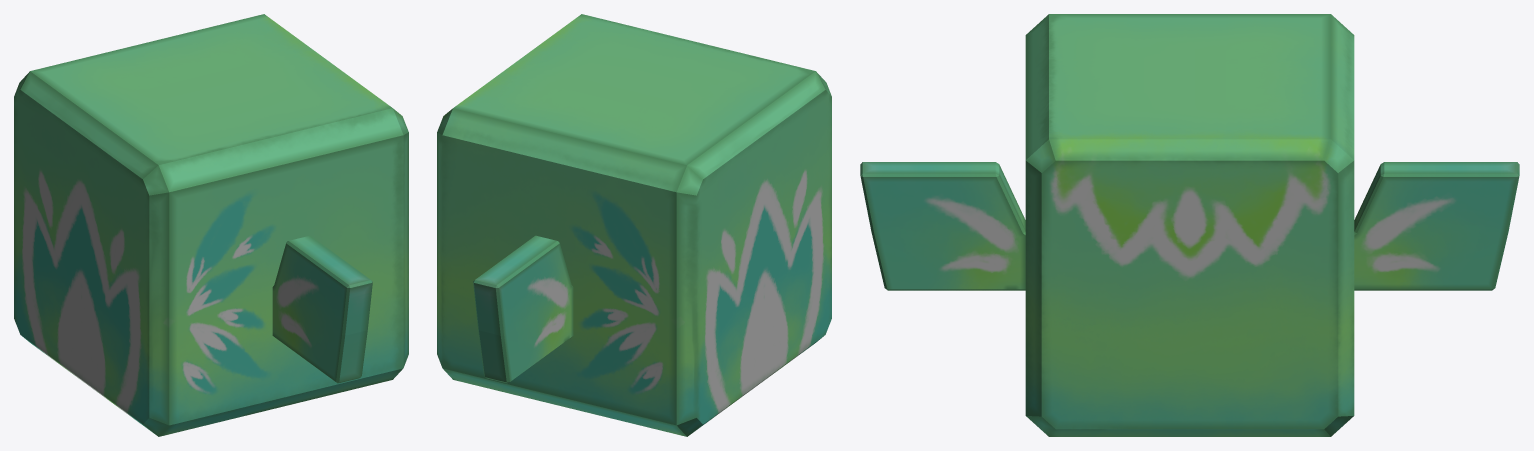
File: bird_totem_wing.fbx
The picture shows the model from 3 angles, left to right: view 1: azimuth 30°, elevation 25°; view 2: azimuth 150°, elevation 25°; view 3: azimuth 270°, elevation 25°; orthographic projection. The views are drawn at different scales.
Visible parts, largest first — view 1: Cube.005, Plane.frozen; view 2: Cube.005, Plane.frozen; view 3: Cube.005, Plane.frozen.
Part boxes in pixels (box(x1,y1,x2,y2)): Cube.005: box(14, 14, 408, 436); Plane.frozen: box(272, 235, 372, 383); Cube.005: box(437, 14, 831, 436); Plane.frozen: box(473, 235, 573, 383); Cube.005: box(1025, 14, 1354, 436); Plane.frozen: box(860, 162, 1519, 290).
Size of the model in its own units: 100 by 100 by 201.
Materials: 2 (2 with a texture image).
